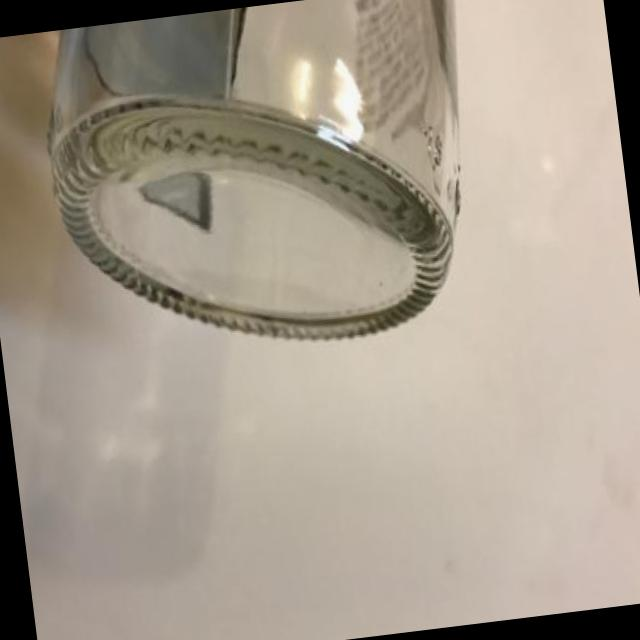chai_thuy_tinh: (47, 0, 459, 339)
